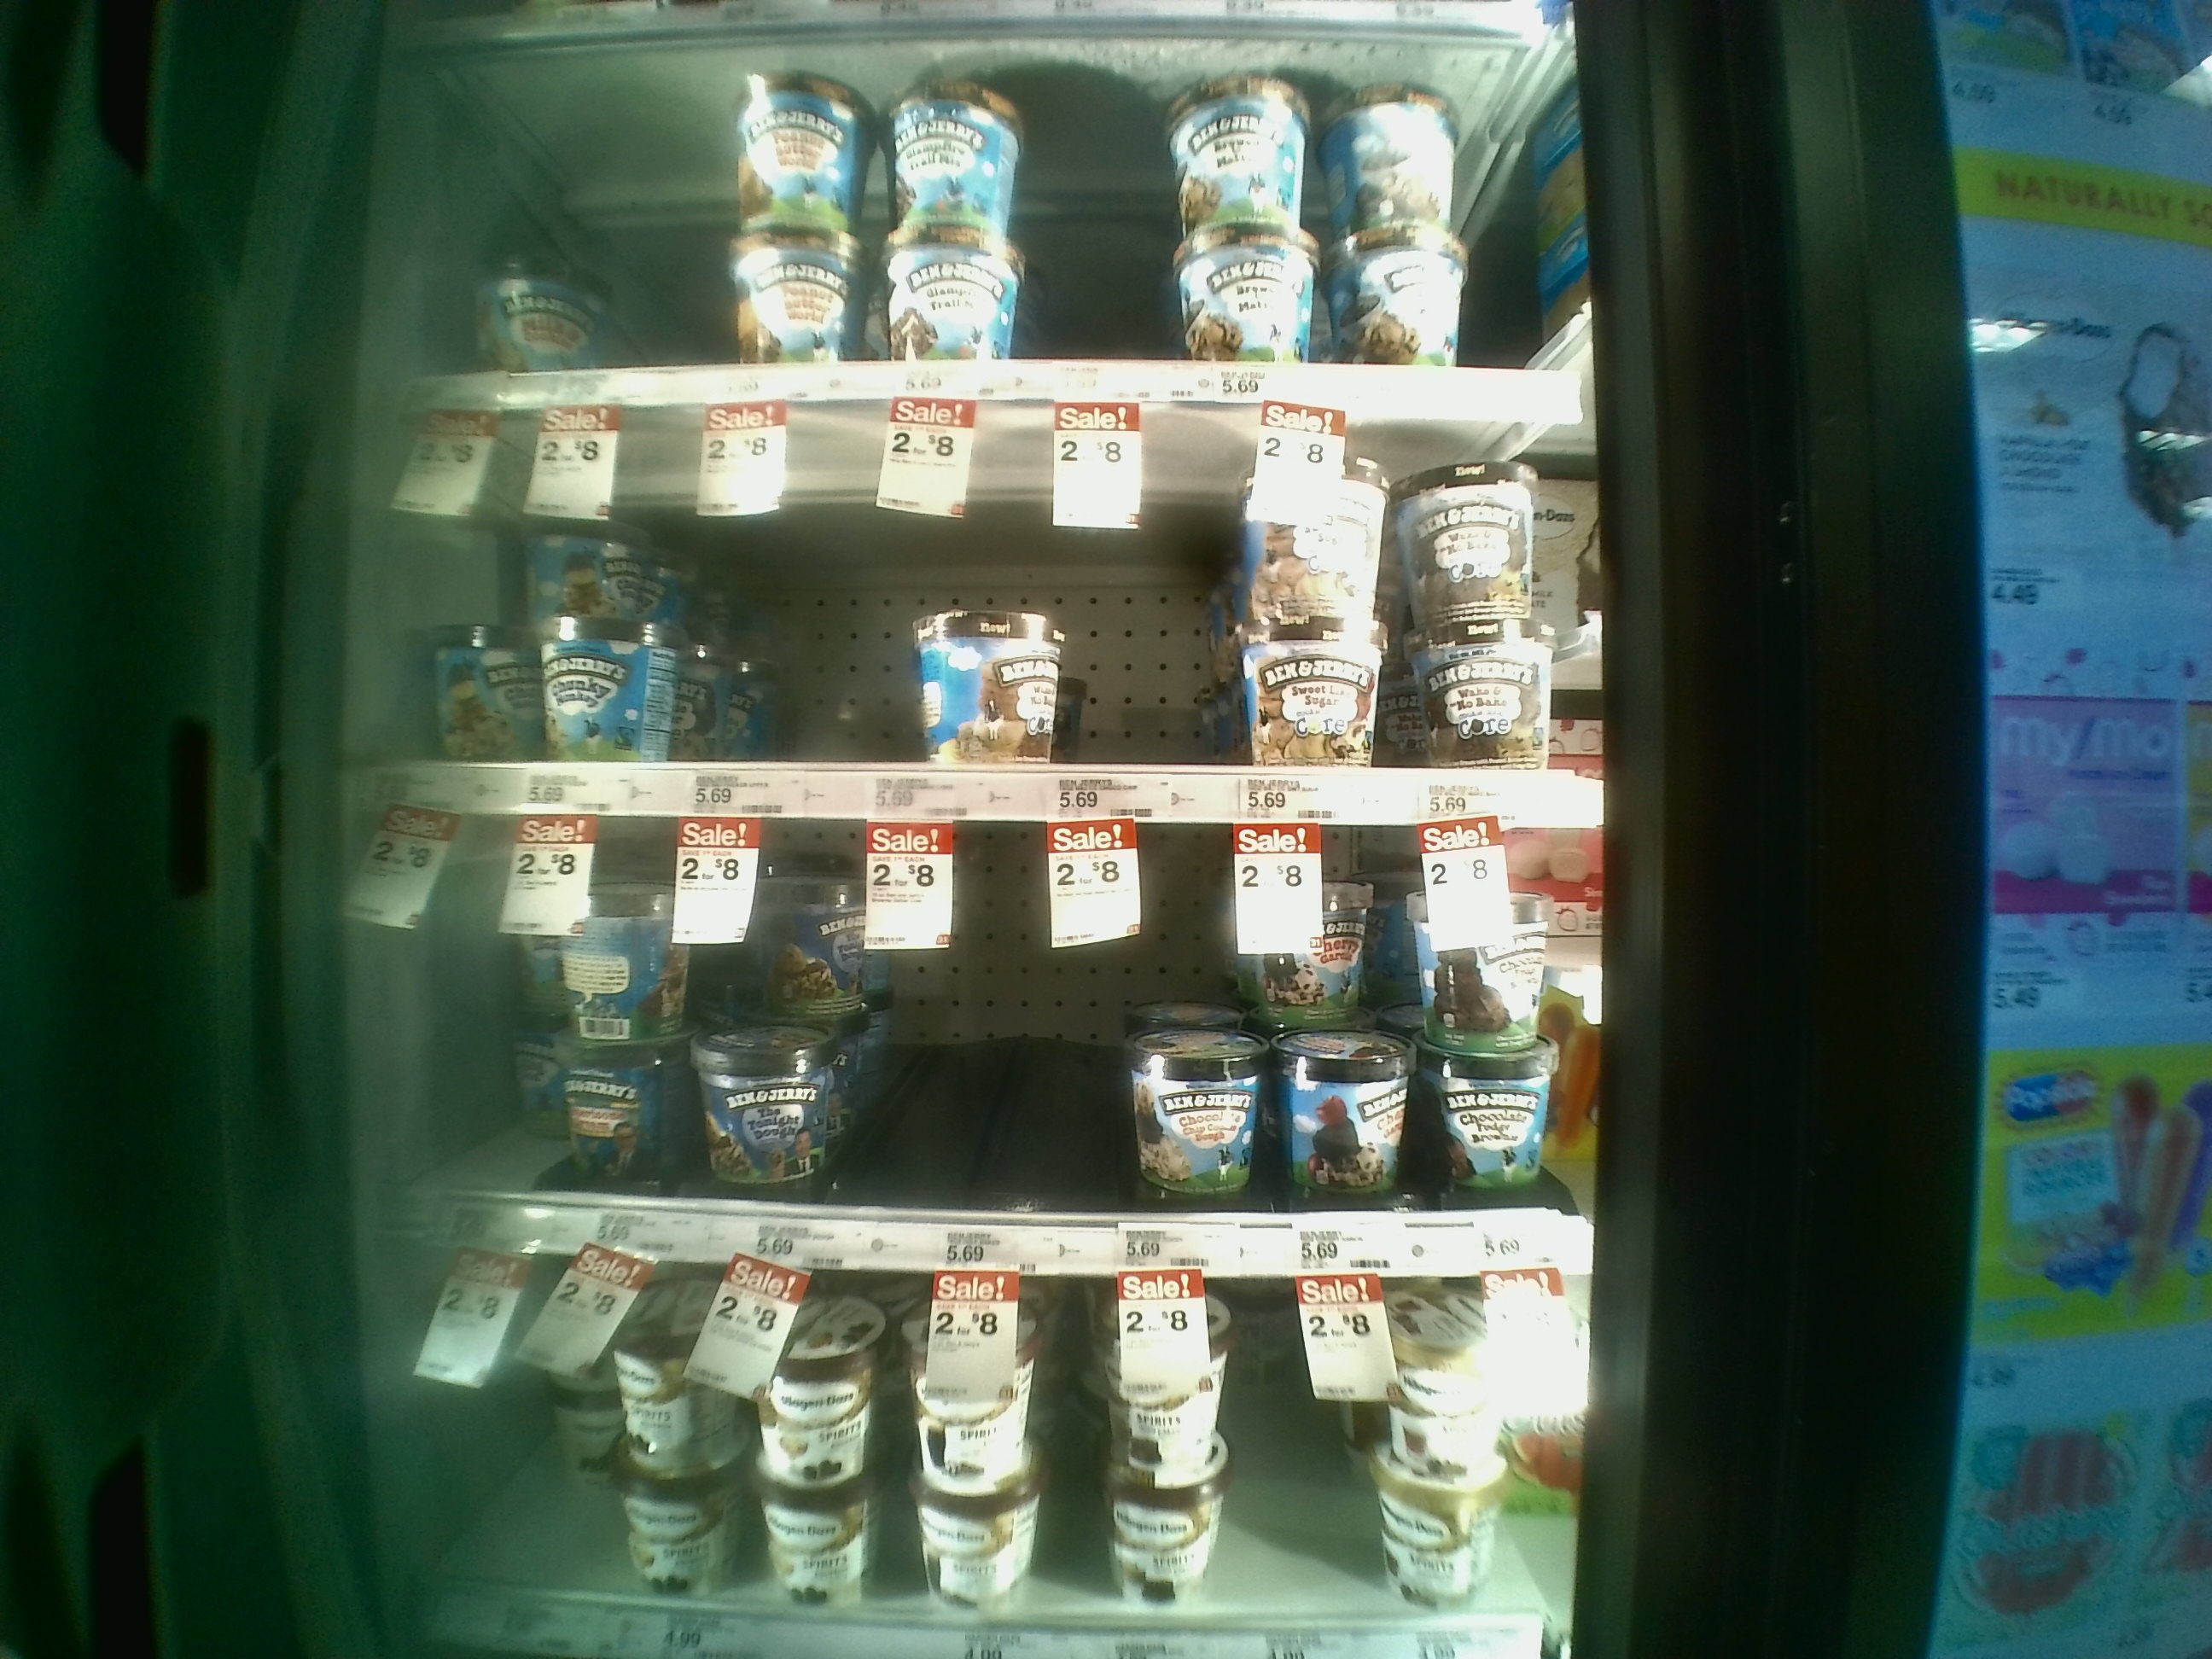shelf: (380, 814, 1609, 1270), (355, 19, 1606, 416), (376, 413, 1609, 812)
